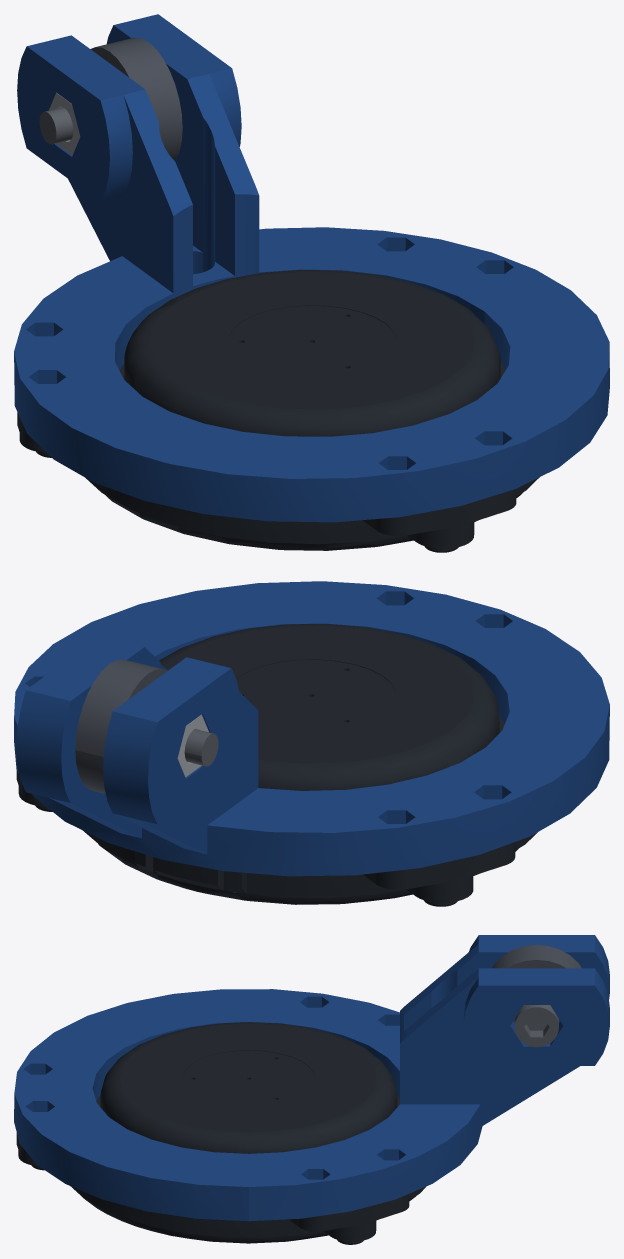
The model's file is .moza_crp_dayton_tt25_fit_check.step.glb.
3 views of the same model, one above another, from view 1: azimuth 30°, elevation 25°; view 2: azimuth 150°, elevation 25°; view 3: azimuth 270°, elevation 25° (orthographic). The views are drawn at different scales.
Parts seen in each view (by area): view 1: o1.1, o1.2.1, o1.3, o1.2.6, o1.5; view 2: o1.1, o1.2.1, o1.3, o1.2.6, o1.5, o1.4; view 3: o1.1, o1.2.1, o1.5, o1.3, o1.2.6.
Part boxes in pixels (x1,y1,x2,y2): o1.1: [14, 14, 609, 522]; o1.2.1: [17, 269, 539, 548]; o1.3: [90, 37, 182, 160]; o1.2.6: [105, 492, 522, 550]; o1.5: [39, 107, 73, 144]; o1.1: [14, 581, 609, 876]; o1.2.1: [16, 624, 537, 902]; o1.3: [75, 659, 166, 793]; o1.2.6: [98, 844, 518, 904]; o1.5: [184, 729, 218, 766]; o1.4: [177, 714, 208, 777]; o1.1: [14, 935, 609, 1221]; o1.2.1: [16, 1022, 425, 1241]; o1.5: [514, 1005, 558, 1047]; o1.3: [492, 945, 581, 968]; o1.2.6: [83, 1196, 415, 1243].
Bounding box in the file's own units: 0.106 × 0.0554 × 0.1345.
